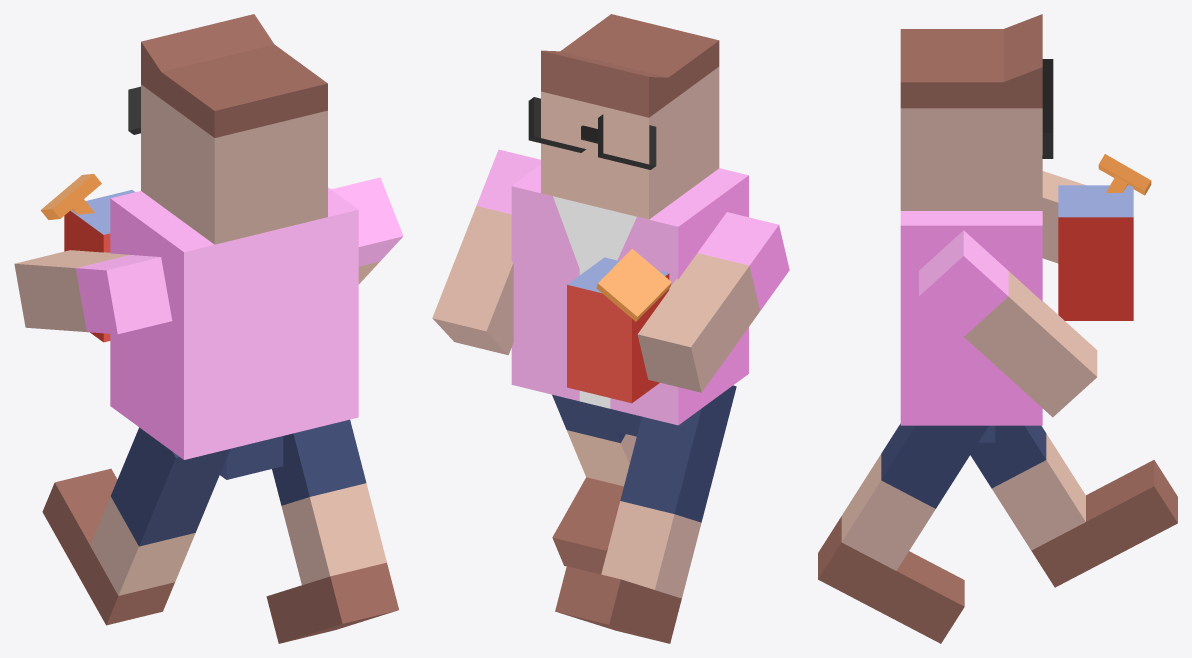
The model's file is office-vacation-jump-1.glb.
The picture shows the model from 3 angles, left to right: view 1: azimuth 30°, elevation 25°; view 2: azimuth 150°, elevation 25°; view 3: azimuth 270°, elevation 25°; orthographic projection. The views are drawn at different scales.
Visible parts, largest first — view 1: UNIT.111, UNIT.110, UNIT.109, UNIT.108, UNIT.107, UNIT.106, UNIT.112; view 2: UNIT.111, UNIT.108, UNIT.110, UNIT.107, UNIT.109, UNIT.112, UNIT.106; view 3: UNIT.111, UNIT.109, UNIT.110, UNIT.107, UNIT.108, UNIT.112.
Part boxes in pixels (bbox=[...]): UNIT.111: bbox=[110, 14, 358, 459]; UNIT.110: bbox=[42, 427, 230, 625]; UNIT.109: bbox=[266, 419, 398, 643]; UNIT.108: bbox=[14, 173, 172, 342]; UNIT.107: bbox=[331, 177, 403, 284]; UNIT.106: bbox=[220, 436, 283, 479]; UNIT.112: bbox=[128, 86, 140, 134]; UNIT.111: bbox=[511, 14, 748, 425]; UNIT.108: bbox=[567, 212, 789, 403]; UNIT.110: bbox=[555, 385, 736, 643]; UNIT.107: bbox=[432, 149, 540, 355]; UNIT.109: bbox=[552, 394, 636, 574]; UNIT.112: bbox=[528, 97, 656, 169]; UNIT.106: bbox=[591, 404, 641, 436]; UNIT.111: bbox=[900, 14, 1042, 425]; UNIT.109: bbox=[818, 423, 988, 643]; UNIT.110: bbox=[970, 425, 1177, 587]; UNIT.107: bbox=[919, 230, 1097, 417]; UNIT.108: bbox=[1042, 154, 1151, 320]; UNIT.112: bbox=[1042, 59, 1053, 158].
Bounding box in the file's own units: 0.7001 × 1.38 × 0.7982.
3 materials, 3 textured.
